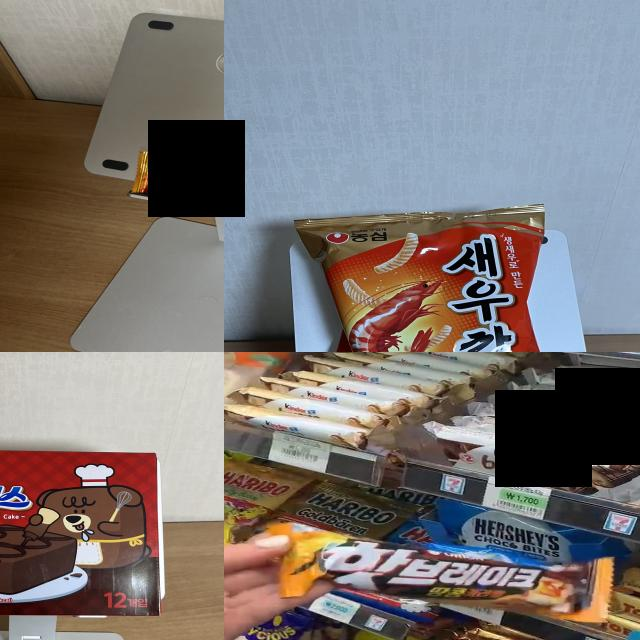hotBreak: (306, 537, 578, 616), (142, 170, 224, 195)
ohYes: (0, 455, 156, 611)
shrimpGGang: (303, 210, 535, 352)
